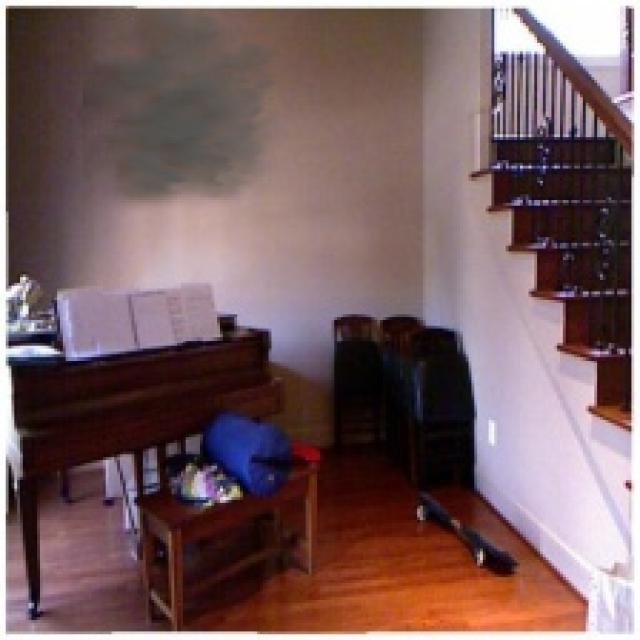smoke: (83, 9, 303, 217)
